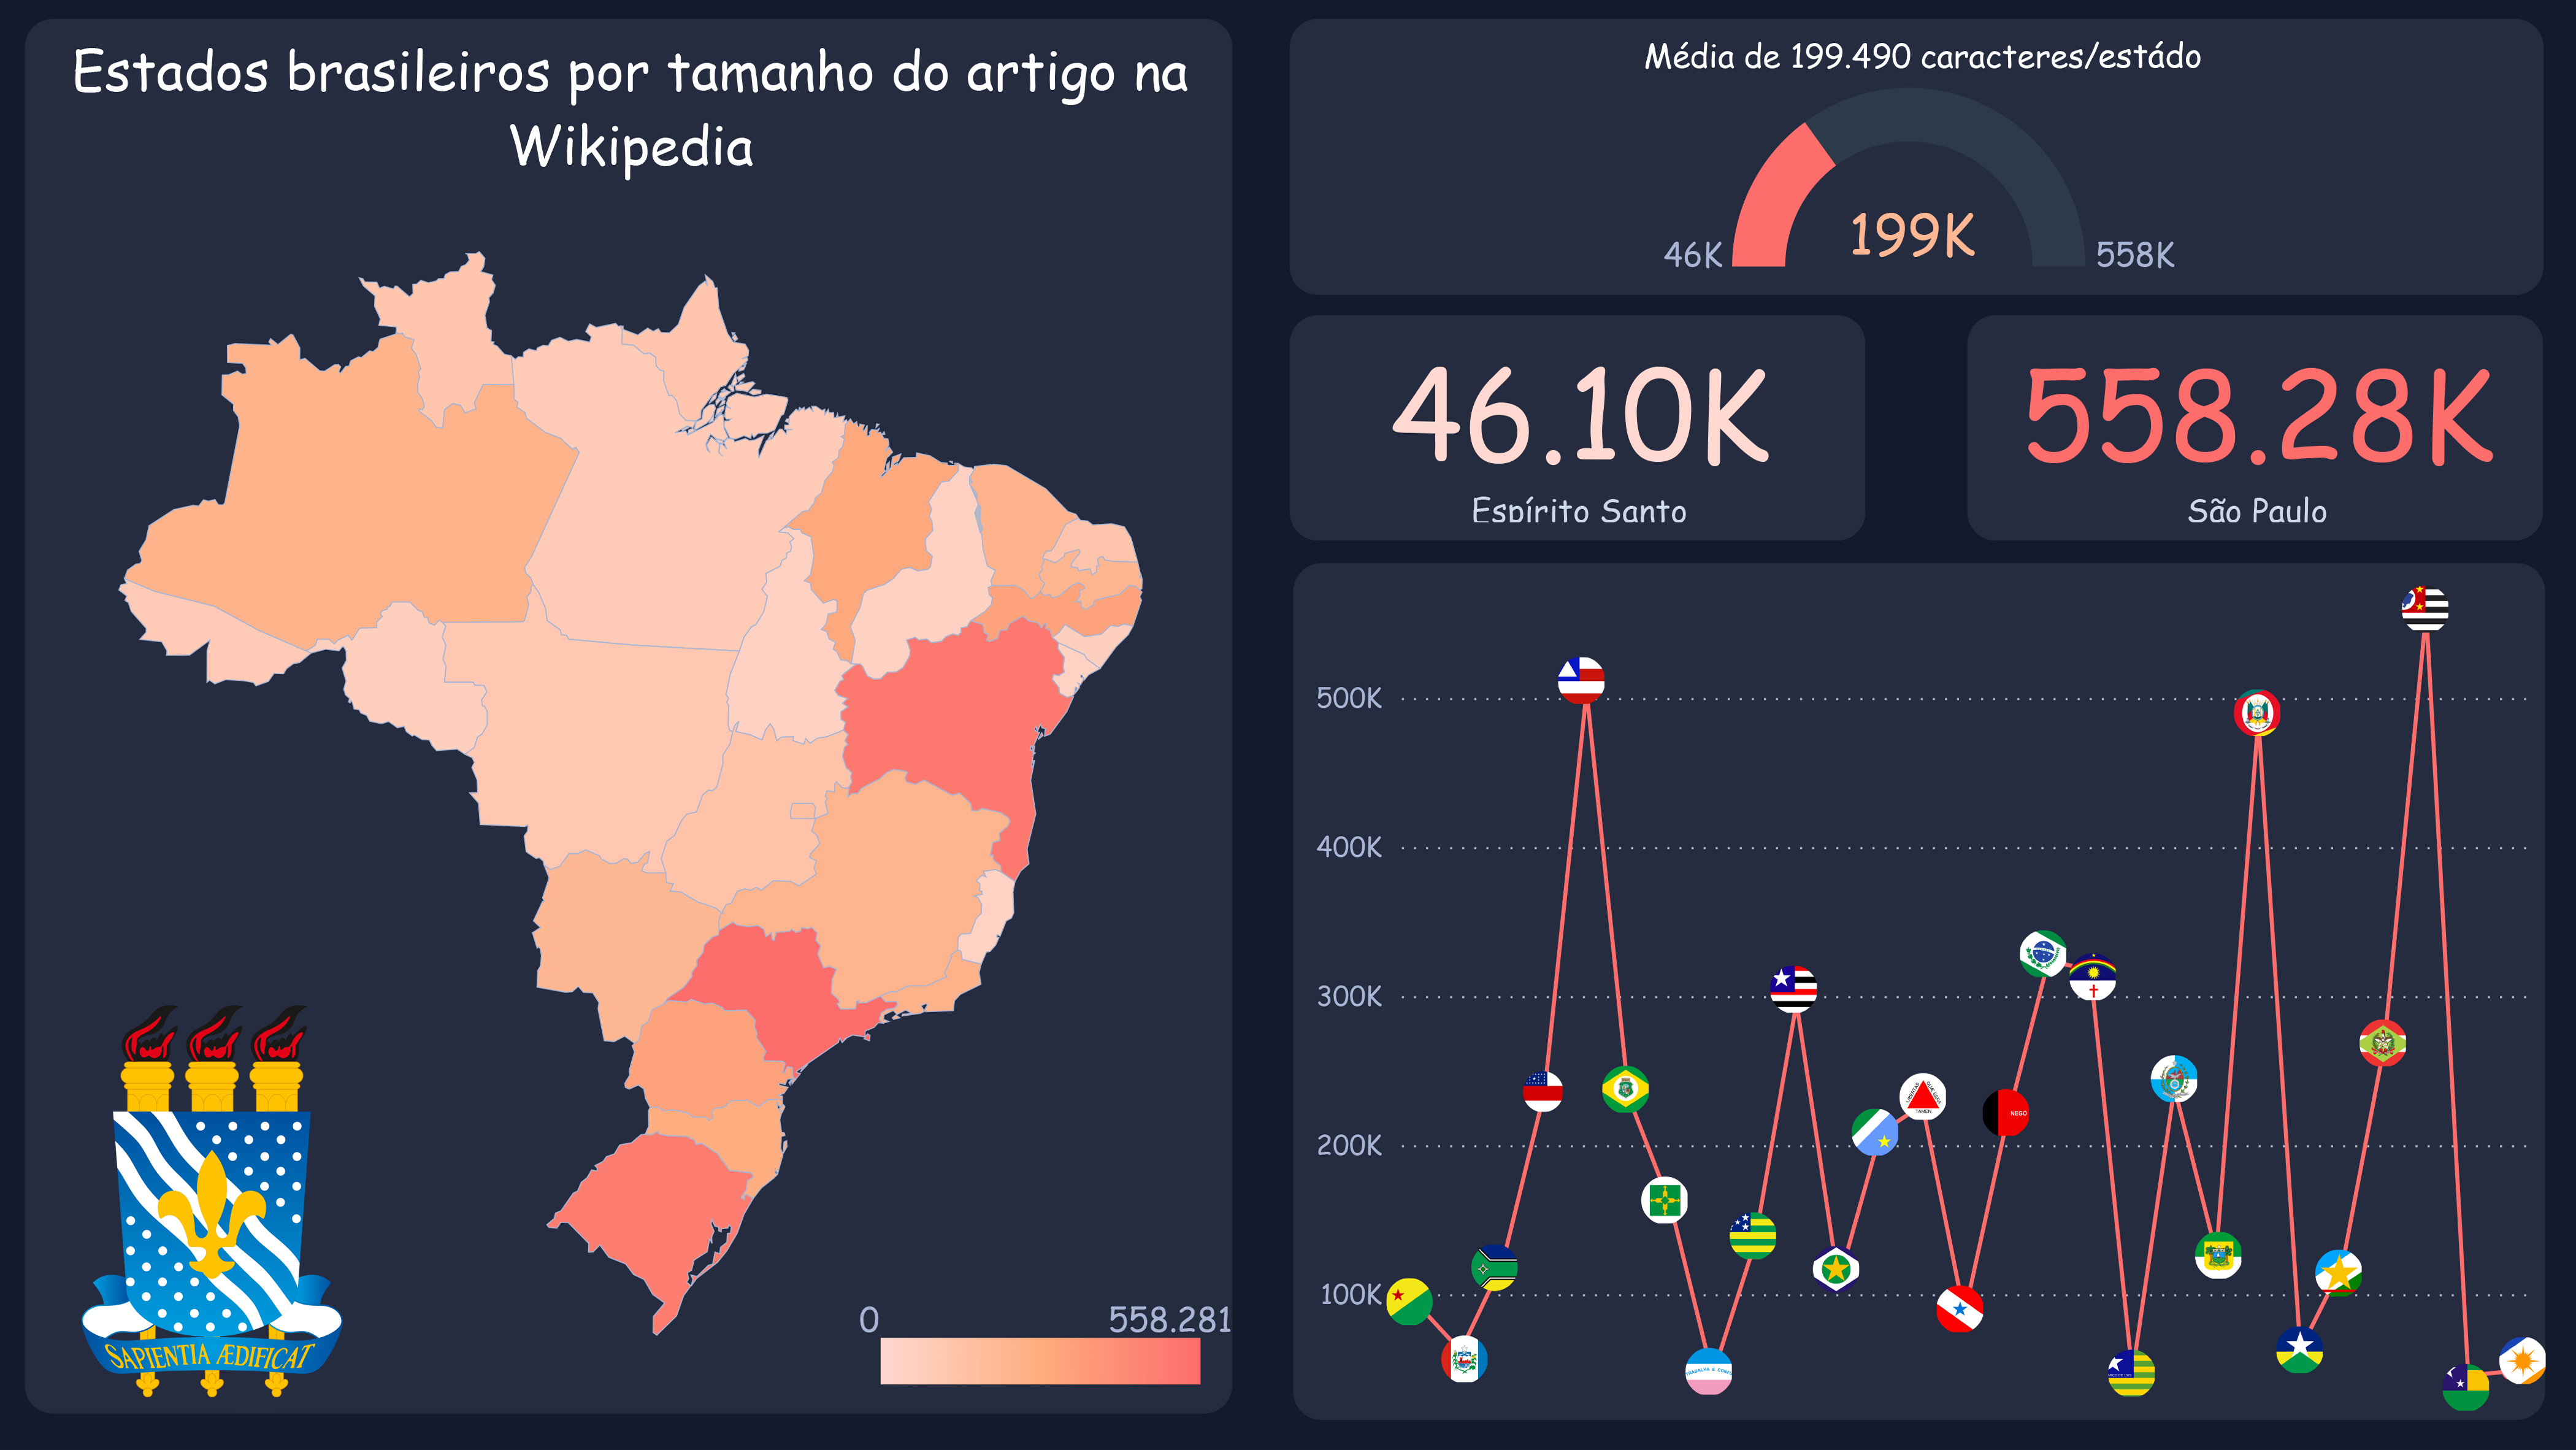

Layout of this report page (visuals, bound fields, positions):
{"tool":"powerbi","page":{"name":"Page 1","canvas":[1280,720],"ordinal":0},"visuals":[{"type":"shapeMap","title":"Estados brasileiros por tamanho do artigo na Wikipedia","fields":{"Value":["Sum(Table_states.Number of characters)"],"Category":["Table_states.State name"]},"box":[12.3,15,599.6,686.6],"z":0},{"type":"gauge","title":"Média de 199.490 caracteres/página","fields":{"Y":["Avg(Table_states.Number of characters)1"]},"box":[640.5,14.5,622.9,135.8],"z":1000},{"type":"card","title":"Espírito Santo","fields":{"Values":["Table_states.Sergipe"]},"box":[640.5,160.6,286.1,110.9],"z":2000},{"type":"card","title":"Espírito Santo","fields":{"Values":["Table_states.Ca0racteres"]},"box":[977.4,160.6,286.1,110.9],"z":3000},{"type":"lineChart","fields":{"Y":["Sum(Table_states.Number of characters)"],"Category":["Table_states.State name"]},"box":[642.6,283.1,622.4,422],"z":4000},{"type":"image","box":[684,630.3,33.4,32.5],"z":5000},{"type":"image","box":[711.2,658.5,33.4,32.5],"z":6000},{"type":"image","box":[726.2,613.6,33.4,33.4],"z":7000},{"type":"image","box":[751.6,528.4,29.9,29.9],"z":8000},{"type":"image","box":[769.2,324.4,32.5,32.5],"z":9000},{"type":"image","box":[791.2,525.7,32.5,32.5],"z":10000},{"type":"image","box":[810.5,580.2,32.5,32.5],"z":11000},{"type":"image","box":[832.5,664.6,32.5,32.5],"z":12000},{"type":"image","box":[854.5,597.8,32.5,32.5],"z":13000},{"type":"image","title":"Para","box":[874.7,476.5,32.5,32.5],"z":14000},{"type":"image","box":[915.2,546.8,32.5,32.5],"z":15000},{"type":"image","box":[895.8,614.5,33.4,33.4],"z":16000},{"type":"image","box":[938.9,529.2,32.5,32.5],"z":17000},{"type":"image","box":[957.4,633.8,32.5,32.5],"z":18000},{"type":"image","box":[980.2,537.1,32.5,32.5],"z":19000},{"type":"image","box":[998.7,458.9,32.5,32.5],"z":20000},{"type":"image","box":[1023.3,470.3,32.5,32.5],"z":21000},{"type":"image","box":[1042.6,665.5,32.5,32.5],"z":22000},{"type":"image","box":[1063.7,520.4,32.5,32.5],"z":23000},{"type":"image","box":[1085.7,607.5,32.5,32.5],"z":24000},{"type":"image","box":[1105.1,340.2,32.5,32.5],"z":25000},{"type":"image","box":[1126.2,654.1,32.5,32.5],"z":26000},{"type":"image","box":[1145.5,616.3,32.5,32.5],"z":27000},{"type":"image","box":[1167.5,502.9,32.5,32.5],"z":28000},{"type":"image","box":[1188.6,289.2,32.5,32.5],"z":29000},{"type":"image","box":[1208.8,672.5,32.5,32.5],"z":30000},{"type":"image","box":[1236.9,659.3,32.5,32.5],"z":31000},{"type":"image","box":[432.5,657.6,168.8,36],"z":32000}]}

Visuals, with their boxes in screenshot pixels (x1, y1, x2, y2), scaled from the page's 1280x720 canvas onto the 2576x1450 screenshot:
"Estados brasileiros por tamanho do artigo na Wikipedia" shapeMap: 25,30,1232,1413
"Média de 199.490 caracteres/página" gauge: 1289,29,2543,302
"Espírito Santo" card: 1289,323,1865,547
"Espírito Santo" card: 1967,323,2543,547
lineChart - Sum(Table_states.Number of characters) x Table_states.State name: 1294,570,2546,1420
image: 1376,1269,1444,1335
image: 1432,1326,1498,1392
image: 1462,1236,1528,1303
image: 1512,1064,1573,1124
image: 1548,653,1614,719
image: 1592,1059,1658,1124
image: 1631,1168,1696,1234
image: 1676,1338,1741,1404
image: 1720,1204,1785,1269
"Para" image: 1760,960,1826,1025
image: 1842,1101,1907,1167
image: 1803,1238,1870,1305
image: 1890,1066,1955,1131
image: 1926,1276,1992,1342
image: 1972,1081,2038,1147
image: 2010,924,2076,989
image: 2060,947,2125,1013
image: 2098,1340,2164,1406
image: 2141,1048,2206,1113
image: 2185,1224,2250,1289
image: 2224,685,2290,751
image: 2266,1318,2332,1383
image: 2306,1241,2371,1306
image: 2350,1013,2415,1078
image: 2392,583,2458,648
image: 2432,1354,2498,1420
image: 2490,1328,2555,1393
image: 870,1324,1210,1397
